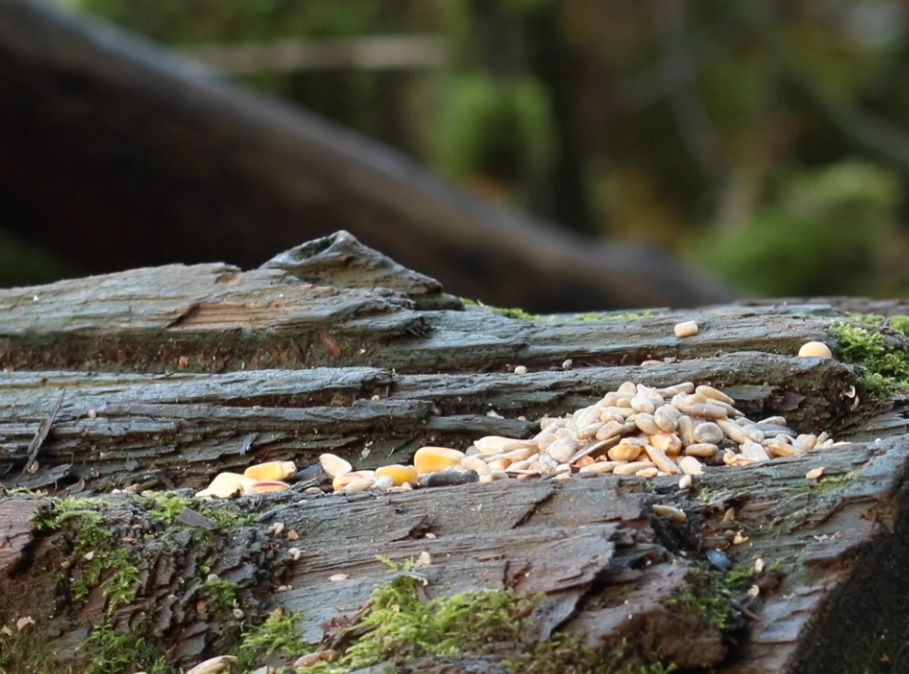seed: (196, 362, 847, 527)
